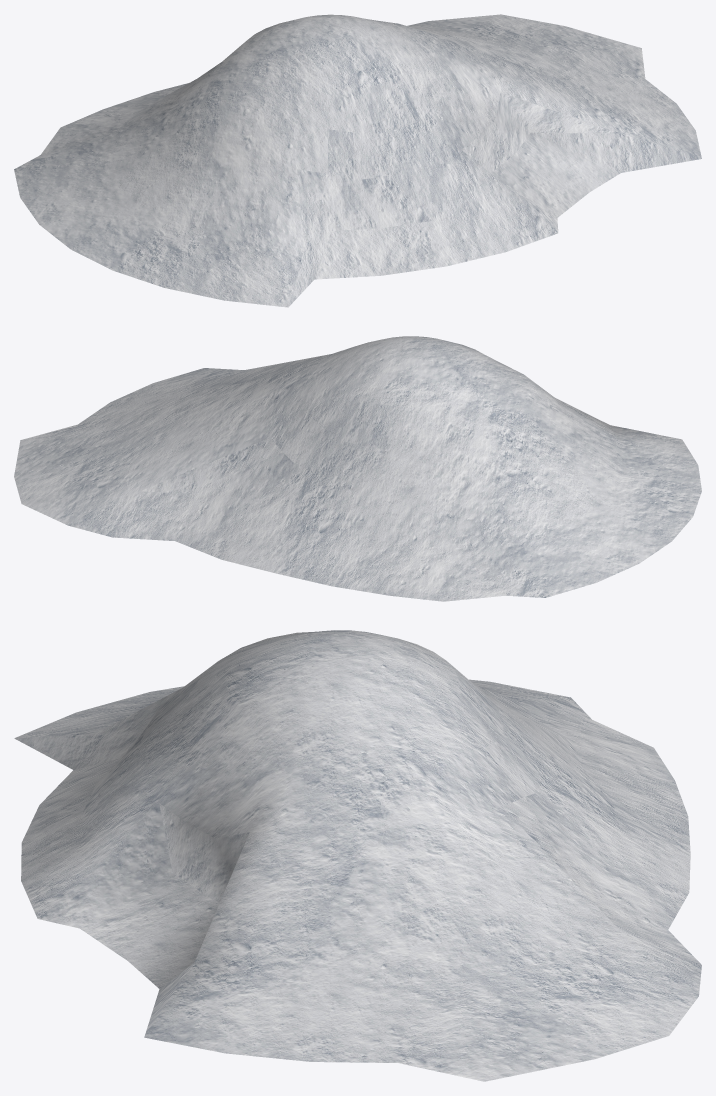
File: OU_AR_SnowDrift_01_D.fbx
The picture shows the model from 3 angles, top to bottom: view 1: azimuth 30°, elevation 25°; view 2: azimuth 150°, elevation 25°; view 3: azimuth 270°, elevation 25°; orthographic projection. The views are drawn at different scales.
Visible parts, largest first — view 1: snow_drift; view 2: snow_drift; view 3: snow_drift.
Part boxes in pixels (x1,y1,x2,y2): snow_drift: [14, 14, 701, 307]; snow_drift: [14, 336, 701, 601]; snow_drift: [14, 630, 701, 1081].
Size of the model in its own units: 268 by 59.23 by 190.
1 material, 1 textured.
